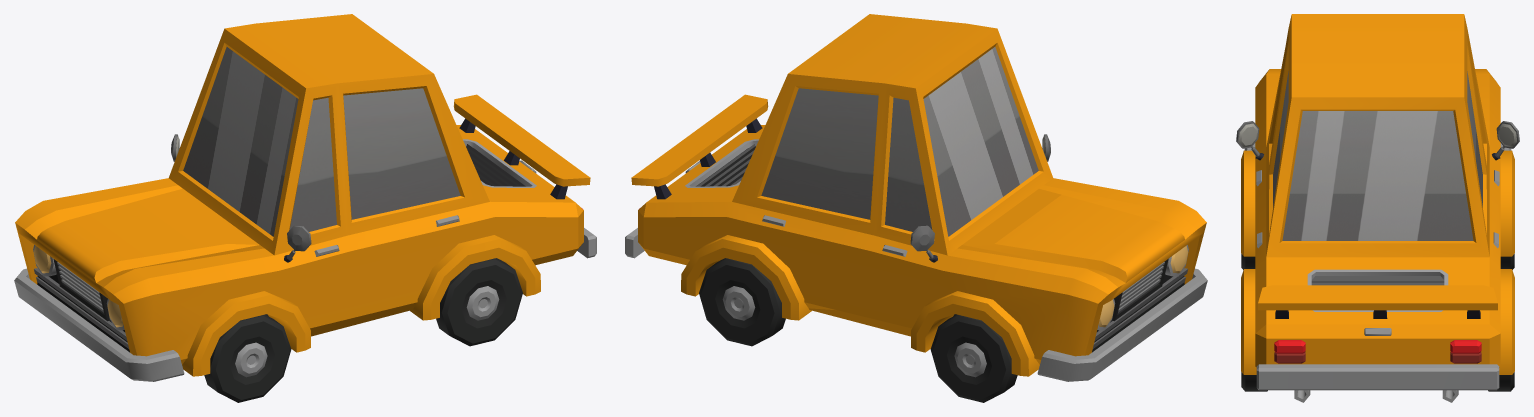
File: Car_6_R.gltf
3 views of the same model, side by side, from view 1: azimuth 30°, elevation 25°; view 2: azimuth 150°, elevation 25°; view 3: azimuth 270°, elevation 25° (orthographic). The views are drawn at different scales.
Parts seen in each view (by area): view 1: Car_6_R, RL, FL; view 2: Car_6_R, RR, FR; view 3: Car_6_R, RL, RR.
Boxes of the visible parts, bbox=[...] form: Car_6_R: bbox=[14, 14, 596, 381]; RL: bbox=[436, 258, 522, 346]; FL: bbox=[204, 314, 291, 402]; Car_6_R: bbox=[625, 14, 1207, 381]; RR: bbox=[699, 258, 785, 346]; FR: bbox=[930, 314, 1017, 402]; Car_6_R: bbox=[1236, 14, 1519, 402]; RL: bbox=[1241, 372, 1267, 391]; RR: bbox=[1488, 372, 1514, 391].
Size of the model in its own units: 3.1 by 1.72 by 1.51.
Materials: 4 (4 with a texture image).
